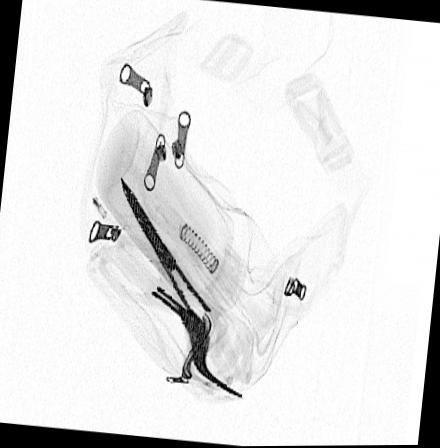Scissors: (100, 205, 245, 400), (114, 168, 243, 378)
